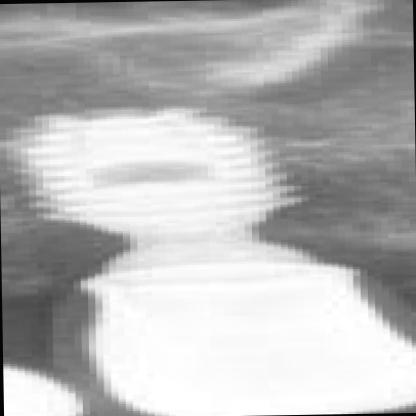Bicon: (0, 96, 314, 226)
